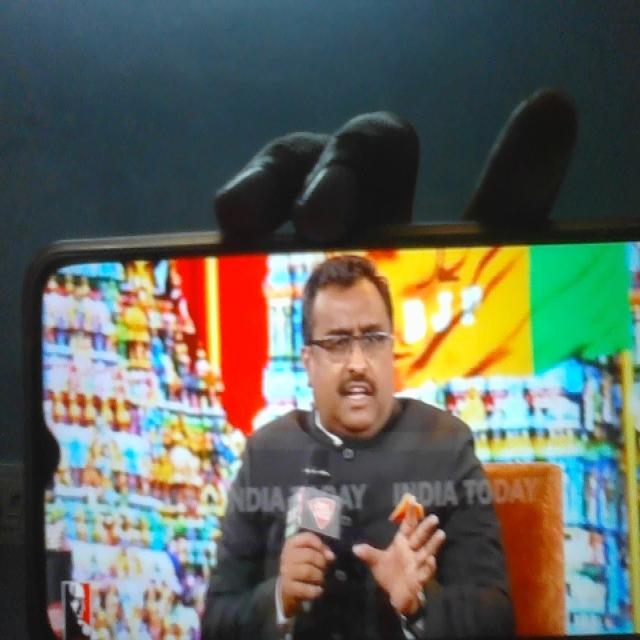fake: (298, 241, 407, 447)
